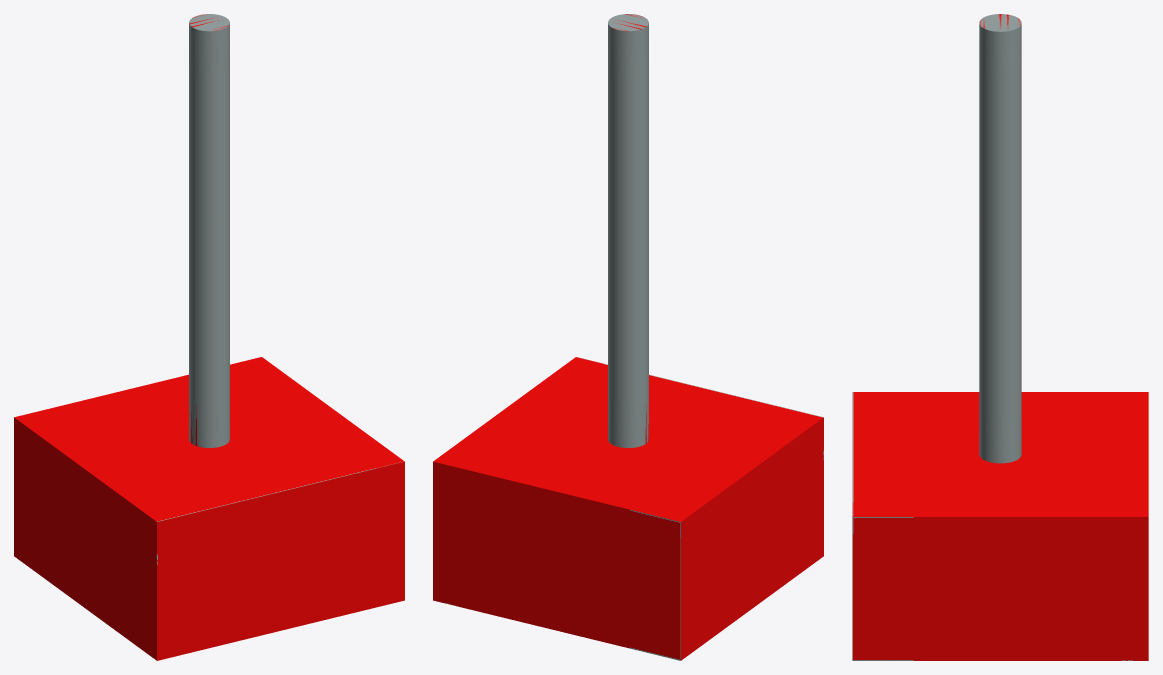
The model's file is screw.dae.
The picture shows the model from 3 angles, left to right: view 1: azimuth 30°, elevation 25°; view 2: azimuth 150°, elevation 25°; view 3: azimuth 270°, elevation 25°; orthographic projection. The views are drawn at different scales.
Visible parts, largest first — view 1: Tonillos Cad; view 2: Tonillos Cad; view 3: Tonillos Cad.
Boxes of the visible parts, x1,y1,x2,y2 form: Tonillos Cad: (14,14,404,660); Tonillos Cad: (433,14,823,660); Tonillos Cad: (852,14,1148,660).
Bounding box in the file's own units: 0.028 × 0.028 × 0.06.
